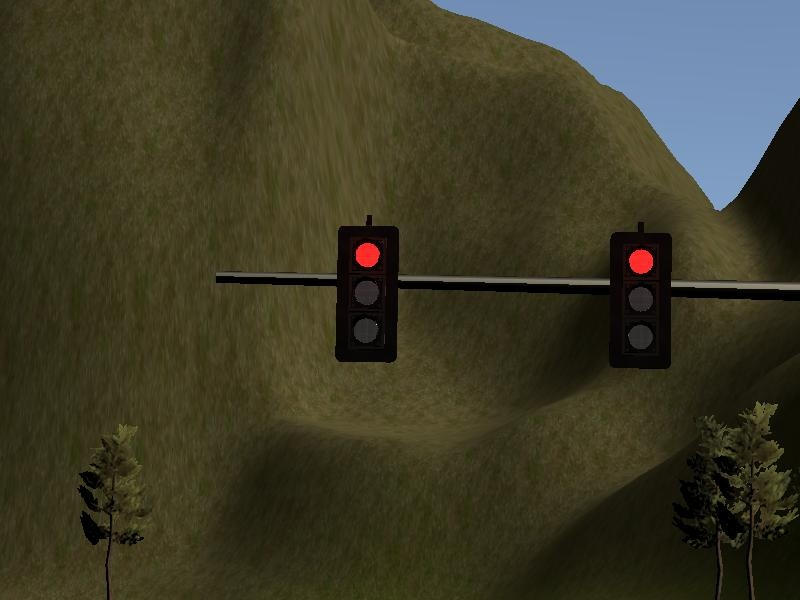RED: (336, 225, 398, 363), (609, 233, 671, 371)
